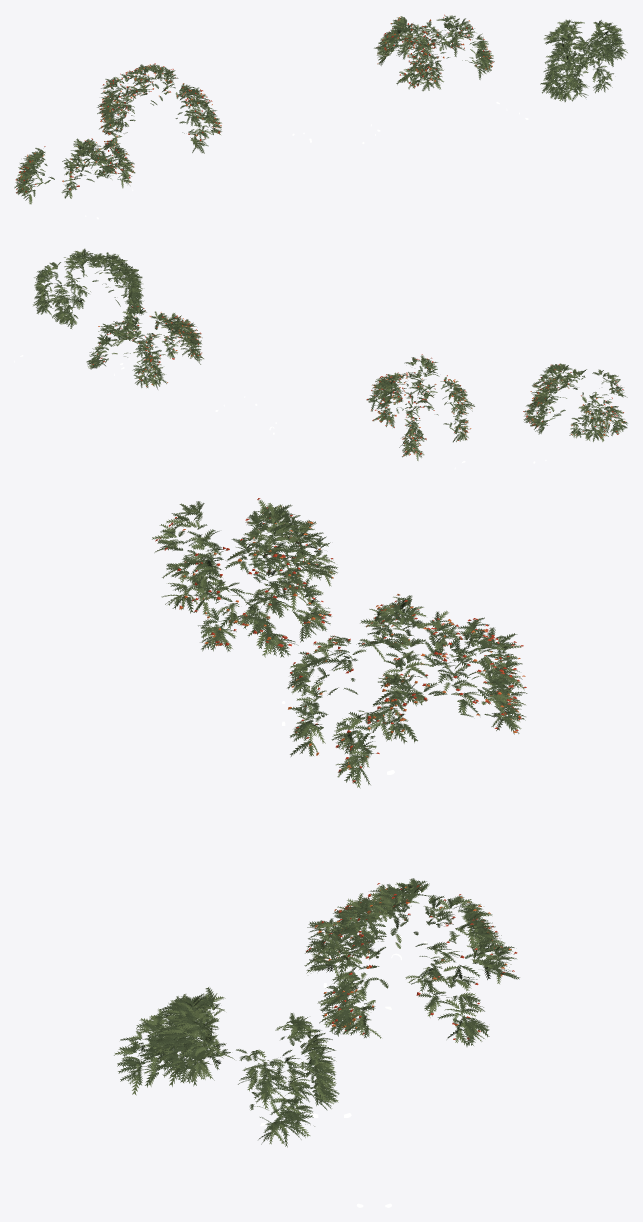
Rendered from site-fixtures.gltf.
3 views of the same model, one above another, from view 1: azimuth 30°, elevation 25°; view 2: azimuth 150°, elevation 25°; view 3: azimuth 270°, elevation 25° (orthographic). The views are drawn at different scales.
Visible parts, largest first — view 1: site.baked.foliage.001; view 2: site.baked.foliage.001; view 3: site.baked.foliage.001.
Boxes of the visible parts, x1,y1,x2,y2 form: site.baked.foliage.001: [14, 14, 627, 204]; site.baked.foliage.001: [33, 248, 627, 460]; site.baked.foliage.001: [114, 498, 527, 1147].
Bounding box in the file's own units: 22.97 × 3.75 × 7.02.
